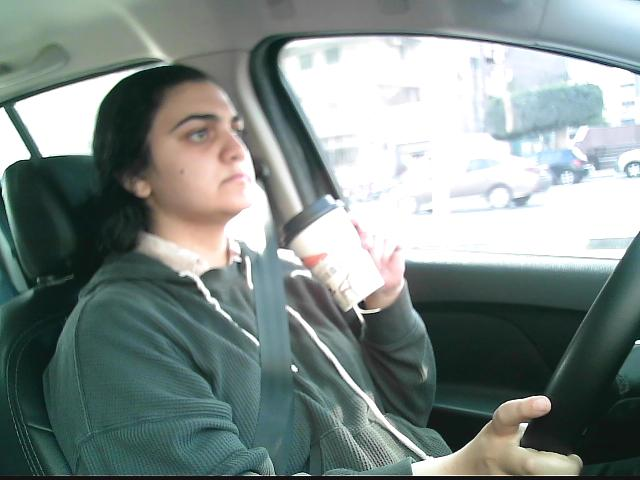Drinking: (281, 192, 401, 322)
